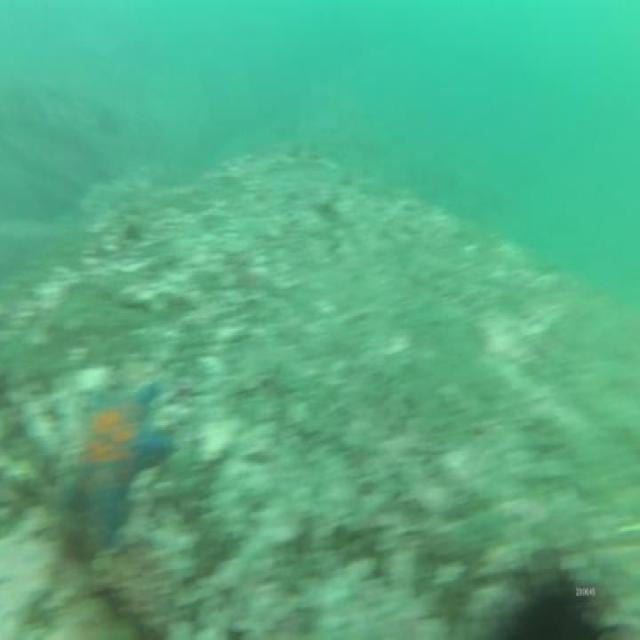echinus: (479, 547, 623, 640)
starfish: (61, 365, 175, 533)
